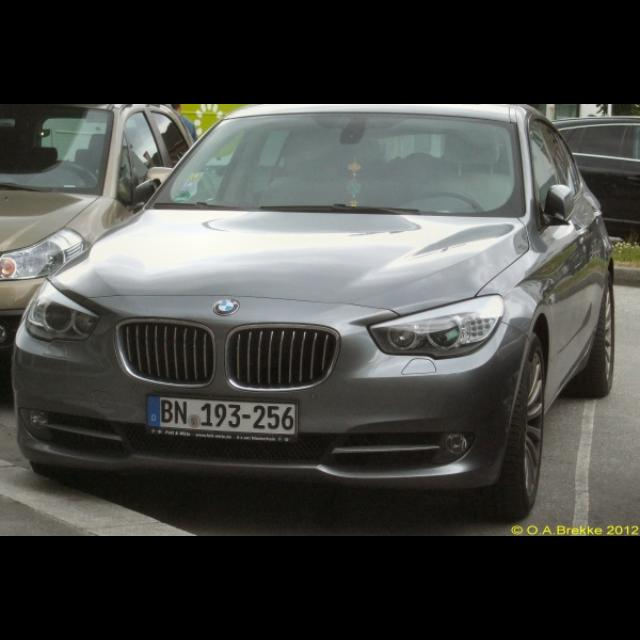d_license_plate: (145, 394, 295, 432)
